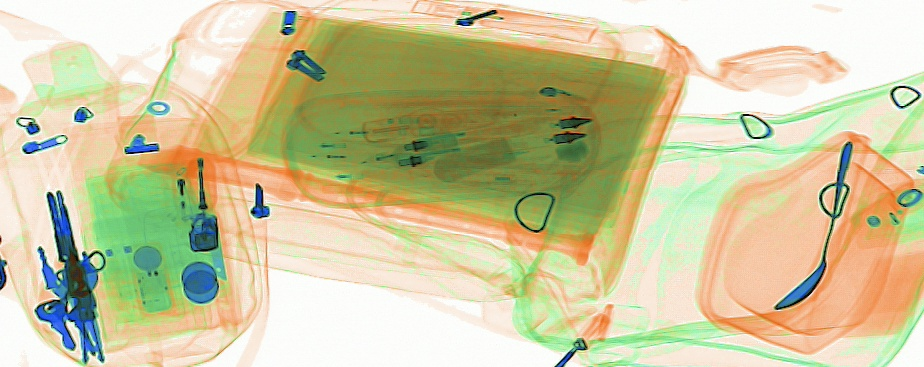lighter: (163, 142, 210, 252)
